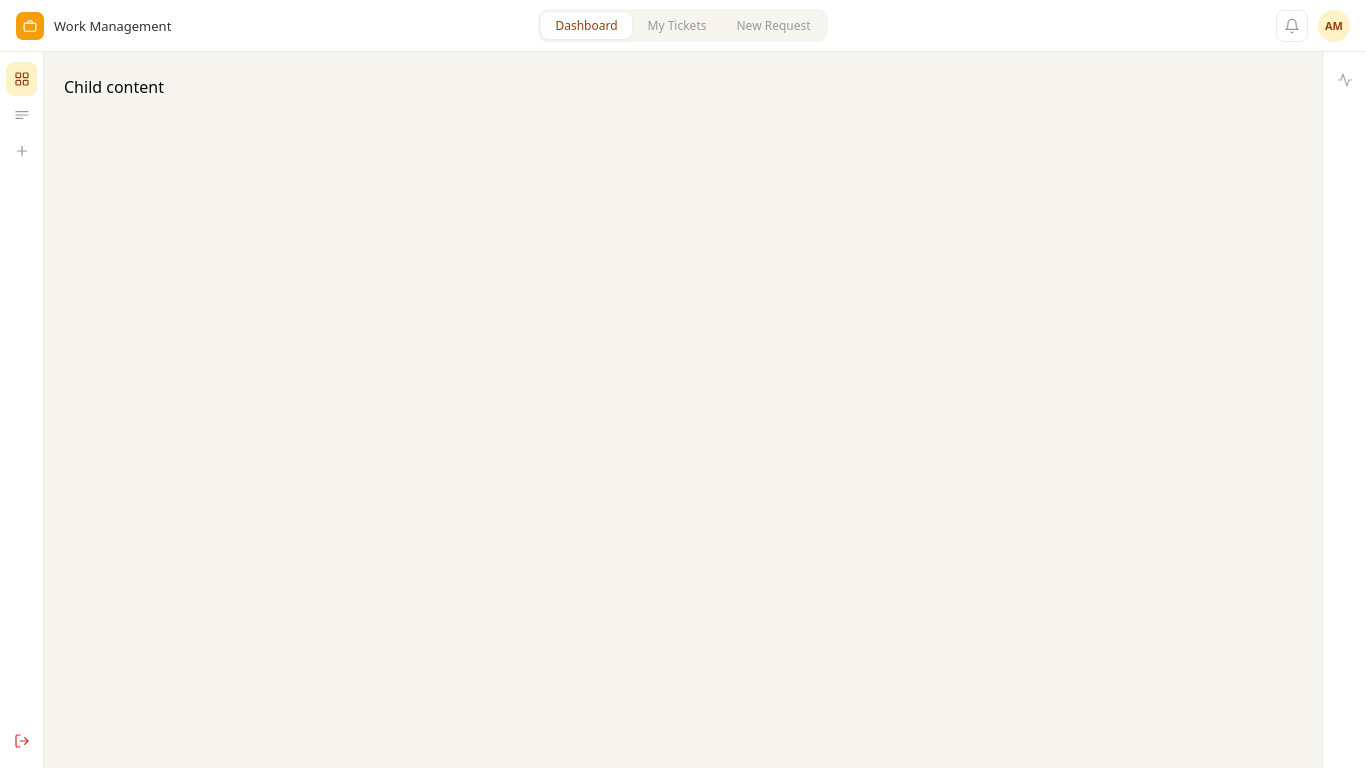
Scenario: AppShell › displays timeAgo values properly for notifications
Step 1. Hover over the element with class "right-panel" → x=1344, y=410, box x1=1322 y1=52 x2=1365 y2=767
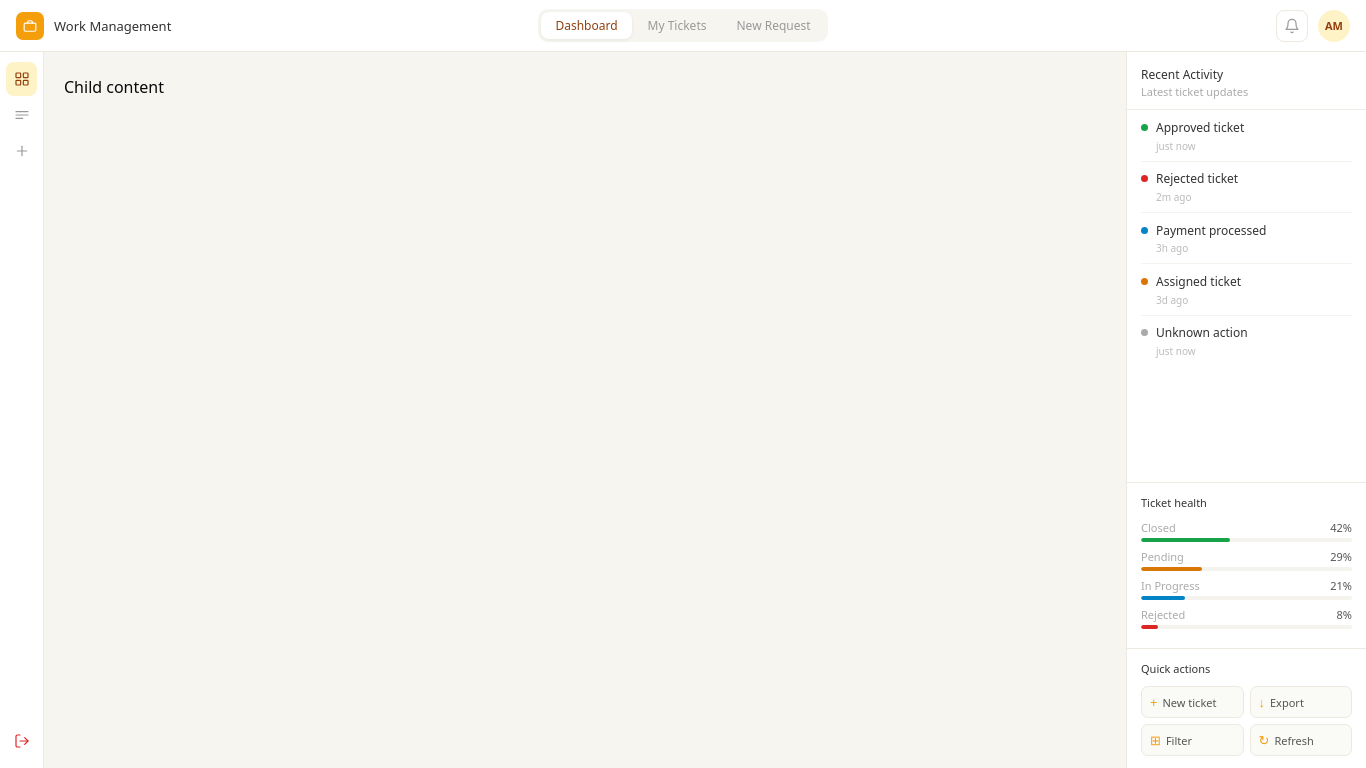
Expected: the text "just now" below "Approved ticket" is shown, x1=1156 y1=139 x2=1196 y2=153
Expected: the text "2m ago" is shown, x1=1156 y1=190 x2=1192 y2=204
Expected: the text "3h ago" is shown, x1=1156 y1=241 x2=1188 y2=255
